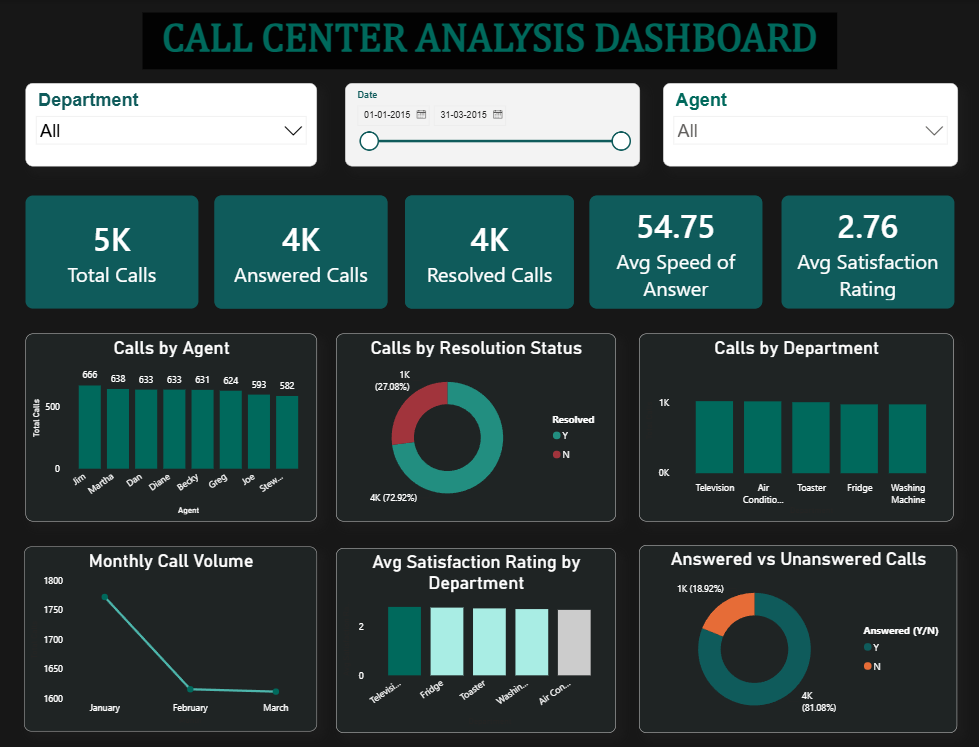

The page's visual inventory and layout, read from the dashboard file:
{"tool":"powerbi","page":{"name":"Page 1","canvas":[1300,1000],"ordinal":0},"visuals":[{"type":"textbox","box":[190,17.7,921.2,75.1],"z":0},{"type":"cardVisual","fields":{"Data":["cleaned_call_center.Total_Calls"]},"box":[33.1,260.7,229.8,150.2],"z":1000},{"type":"cardVisual","fields":{"Data":["cleaned_call_center.Answered Calls"]},"box":[285,260.7,229.8,150.2],"z":2000},{"type":"cardVisual","fields":{"Data":["cleaned_call_center.Resolved Calls"]},"box":[536.8,260.7,229.8,150.2],"z":3000},{"type":"cardVisual","fields":{"Data":["cleaned_call_center.Avg Speed of Answer"]},"box":[782.1,260.7,229.8,150.2],"z":4000},{"type":"clusteredColumnChart","title":"Calls by Department","fields":{"Category":["cleaned_call_center.Department"],"Y":["cleaned_call_center.Total_Calls"]},"box":[848.3,444,417.5,249.6],"z":5000},{"type":"donutChart","title":"Answered vs Unanswered Calls","fields":{"Y":["cleaned_call_center.Total_Calls"],"Category":["cleaned_call_center.Answered (Y/N)"]},"box":[848.3,724.6,422,249.6],"z":6000},{"type":"clusteredColumnChart","title":"Calls by Agent","fields":{"Category":["cleaned_call_center.Agent"],"Y":["cleaned_call_center.Total_Calls"]},"box":[33.1,444,386.6,249.6],"z":7000},{"type":"clusteredColumnChart","fields":{"Category":["cleaned_call_center.Department"],"Y":["cleaned_call_center.Avg Satisfaction Rating"]},"box":[446.3,729,371.1,245.2],"z":8000},{"type":"lineChart","title":"Monthly Call Volume","fields":{"Y":["cleaned_call_center.Total_Calls"],"Category":["cleaned_call_center.Date.Variation.Date Hierarchy.Month"]},"box":[30.9,726.8,388.8,245.2],"z":9000},{"type":"donutChart","title":"Calls by Resolution Status","fields":{"Y":["cleaned_call_center.Total_Calls"],"Category":["cleaned_call_center.Resolved"]},"box":[446.3,444,371.1,249.6],"z":10000},{"type":"slicer","fields":{"Values":["cleaned_call_center.Date"]},"box":[457.3,110.5,391,110.5],"z":11000},{"type":"slicer","fields":{"Values":["cleaned_call_center.Department"]},"box":[33.1,110.5,386.6,110.5],"z":12000},{"type":"slicer","fields":{"Values":["cleaned_call_center.Agent"]},"box":[879.3,110.5,391,110.5],"z":13000},{"type":"cardVisual","fields":{"Data":["cleaned_call_center.Avg Satisfaction Rating"]},"box":[1036.1,260.7,229.8,150.2],"z":14000}]}

Visuals, with their boxes in screenshot pixels (x1, y1, x2, y2), scaled from the page's 1300x1000 canvas onto the 979x747 screenshot:
textbox: detection(143, 13, 837, 69)
cardVisual - cleaned_call_center.Total_Calls: detection(25, 195, 198, 307)
cardVisual - cleaned_call_center.Answered Calls: detection(215, 195, 388, 307)
cardVisual - cleaned_call_center.Resolved Calls: detection(404, 195, 577, 307)
cardVisual - cleaned_call_center.Avg Speed of Answer: detection(589, 195, 762, 307)
"Calls by Department" clusteredColumnChart: detection(639, 332, 953, 518)
"Answered vs Unanswered Calls" donutChart: detection(639, 541, 957, 728)
"Calls by Agent" clusteredColumnChart: detection(25, 332, 316, 518)
clusteredColumnChart - cleaned_call_center.Department x cleaned_call_center.Avg Satisfaction Rating: detection(336, 545, 616, 728)
"Monthly Call Volume" lineChart: detection(23, 543, 316, 726)
"Calls by Resolution Status" donutChart: detection(336, 332, 616, 518)
slicer - cleaned_call_center.Date: detection(344, 83, 639, 165)
slicer - cleaned_call_center.Department: detection(25, 83, 316, 165)
slicer - cleaned_call_center.Agent: detection(662, 83, 957, 165)
cardVisual - cleaned_call_center.Avg Satisfaction Rating: detection(780, 195, 953, 307)
